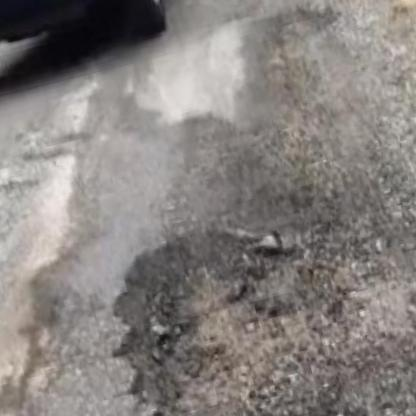pothole: (135, 228, 340, 403)
